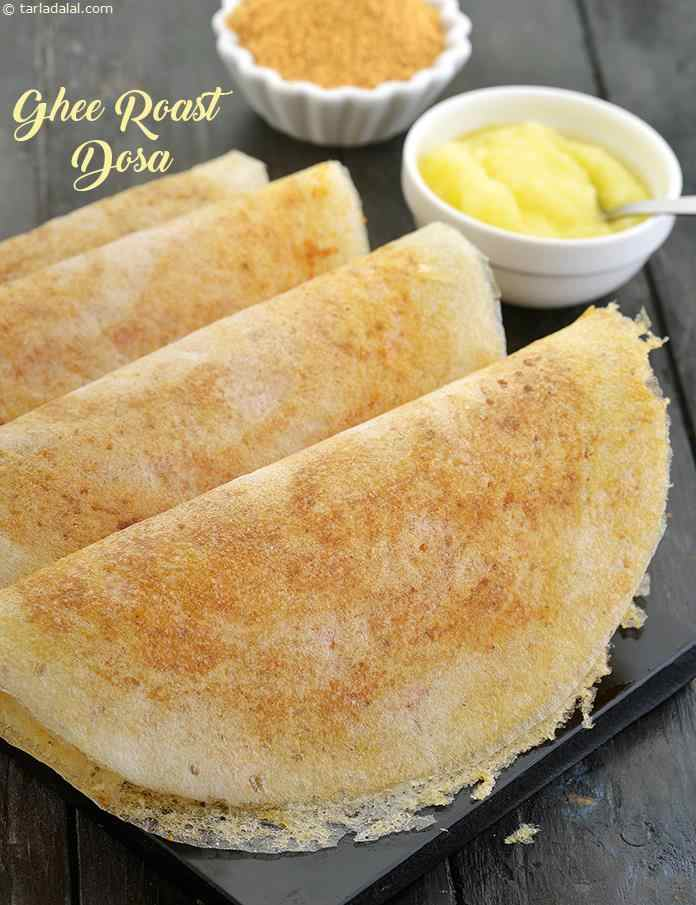dosa: (6, 152, 675, 851)
